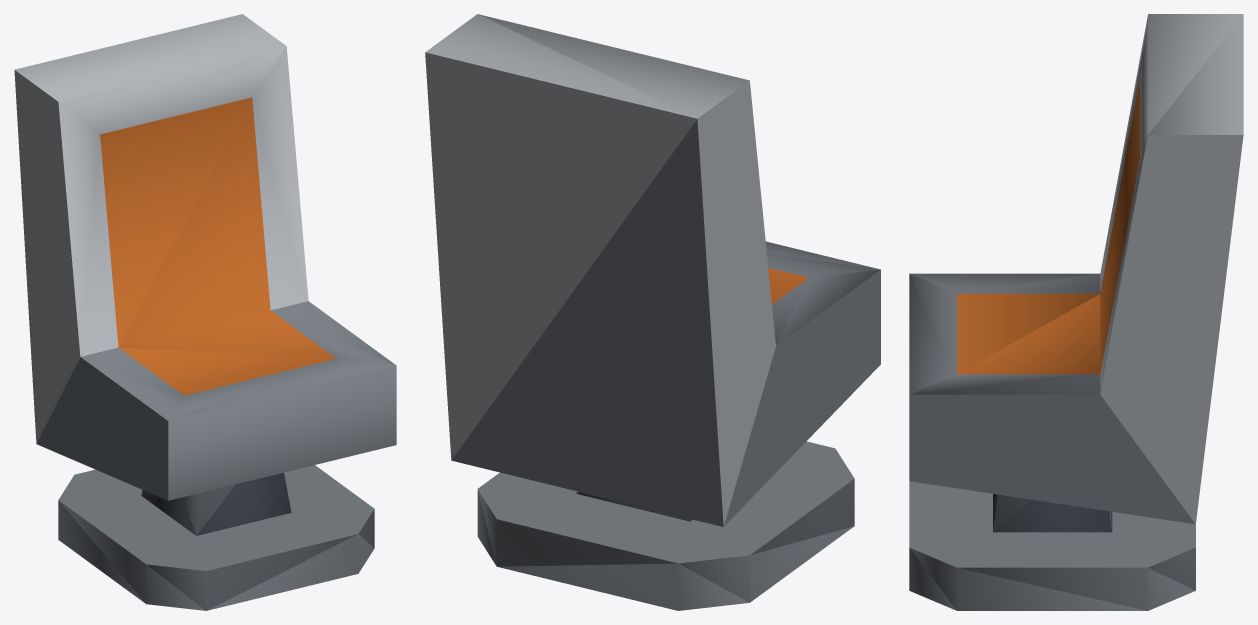
File: Kit_chair-cushion.fbx
The picture shows the model from 3 angles, left to right: view 1: azimuth 30°, elevation 25°; view 2: azimuth 150°, elevation 25°; view 3: azimuth 270°, elevation 25°; orthographic projection. The views are drawn at different scales.
Parts seen in each view (by area): view 1: Kit_chair-cushion; view 2: Kit_chair-cushion; view 3: Kit_chair-cushion.
Boxes of the visible parts, box(x1,y1,x2,y2) form: Kit_chair-cushion: box(14, 14, 396, 610); Kit_chair-cushion: box(425, 14, 880, 610); Kit_chair-cushion: box(909, 14, 1243, 610).
Size of the model in its own units: 0.3 by 0.55 by 0.35.
